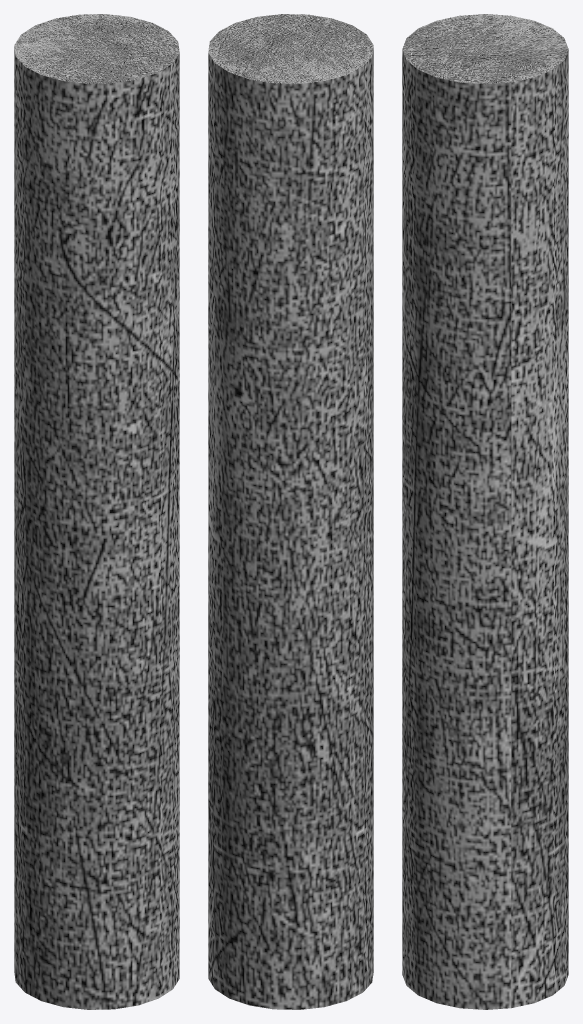
File: pistonDown.obj
3 renders of one model, left to right at view 1: azimuth 30°, elevation 25°; view 2: azimuth 150°, elevation 25°; view 3: azimuth 270°, elevation 25°, orthographic.
Parts seen in each view (by area): view 1: pCylinder9; view 2: pCylinder9; view 3: pCylinder9.
Boxes of the visible parts, x1,y1,x2,y2 form: pCylinder9: (14, 14, 179, 1009); pCylinder9: (208, 14, 373, 1009); pCylinder9: (402, 14, 568, 1009).
Bounding box in the file's own units: 2.69 × 16.5 × 2.69.
Materials: 1 (1 with a texture image).
